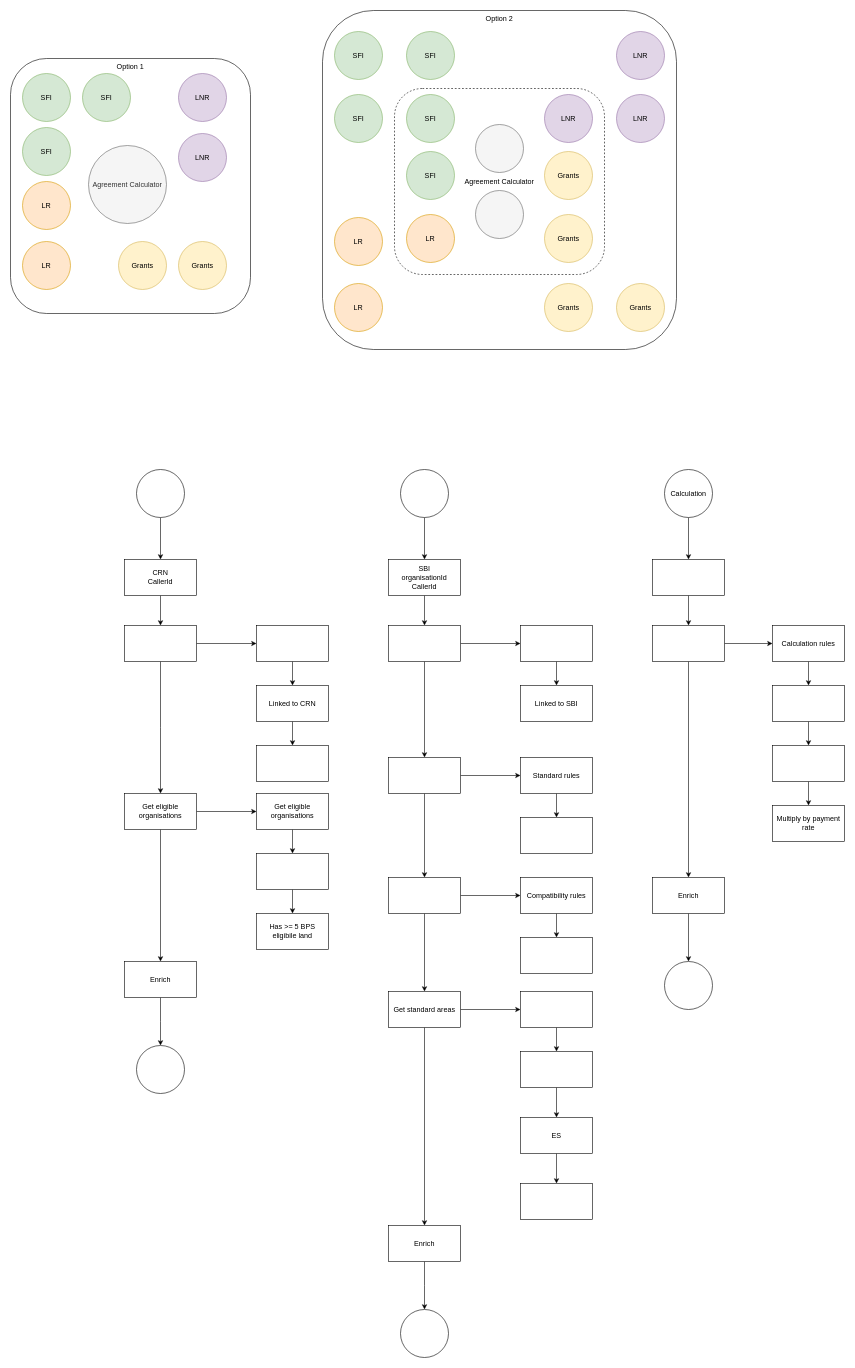
The diagram is 855 pixels wide and 1368 high, and some of its shapes have lost their labels. The centre of each missing label's shape, as x and y in pixels:
Calculate value: the point at 688,643
Cross check rules: the point at 556,1009
CS: the point at 556,1201
Eligibility: the point at 160,493
Get eligible standards: the point at 424,895
Get organisations: the point at 160,643
Get parcels: the point at 424,643
Get standards: the point at 424,775
Has >= 5 BPS entitlements: the point at 292,871
Has SFI empowerment: the point at 292,763
Is active: the point at 556,835
Land cover matches: the point at 556,955
Organisation rules: the point at 292,643
Parcel rules: the point at 556,643
SFI pilot: the point at 556,1069
Standards: the point at 424,493
Standards Parcels Actions: the point at 688,577
Sum actions: the point at 808,763
Sum areas: the point at 808,703
